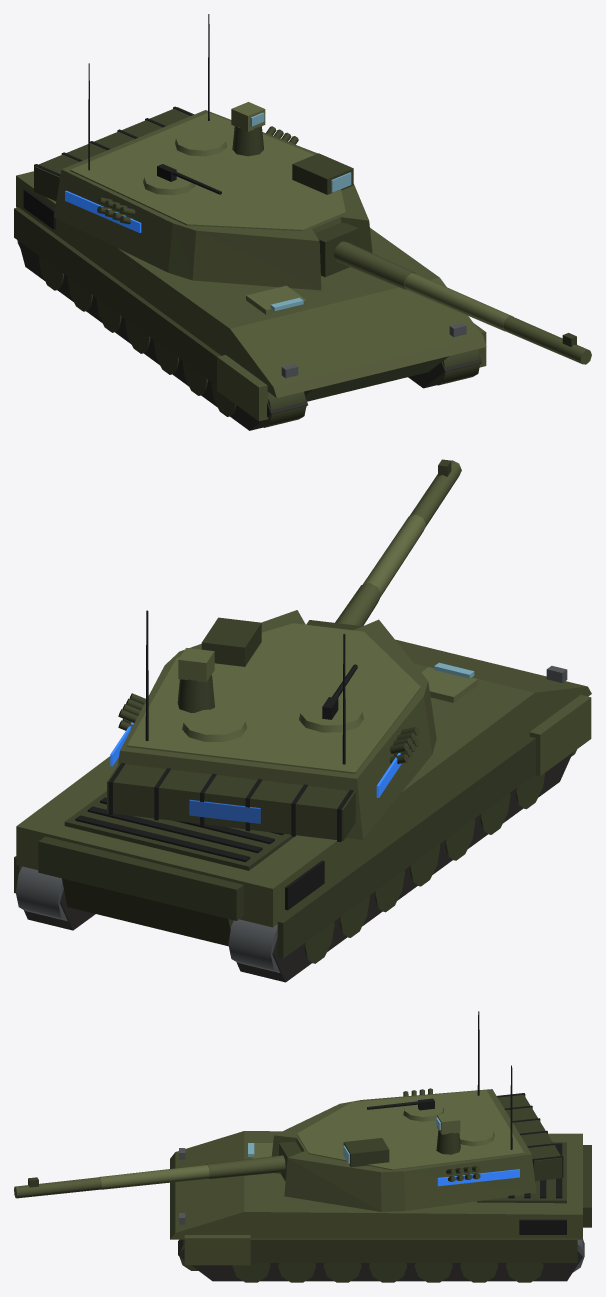
Rendered from leopard_lowpoly.glb.
3 renders of one model, top to bottom at view 1: azimuth 30°, elevation 25°; view 2: azimuth 150°, elevation 25°; view 3: azimuth 270°, elevation 25°, orthographic. The views are drawn at different scales.
Parts seen in each view (by area): view 1: wanne, turm, kanone, teamfarbe; view 2: wanne, turm, kanone, teamfarbe; view 3: wanne, turm, kanone, teamfarbe.
Boxes of the visible parts, x1,y1,x2,y2 form: wanne: (14,171,486,430); turm: (34,14,372,290); kanone: (334,241,591,364); teamfarbe: (65,190,141,232); wanne: (14,639,591,982); turm: (107,610,436,842); kanone: (335,459,461,625); teamfarbe: (189,799,260,823); wanne: (170,1131,591,1282); turm: (271,1011,563,1211); kanone: (14,1155,285,1198); teamfarbe: (437,1169,519,1186).
Size of the model in its own units: 4.11 by 4.01 by 10.92.
